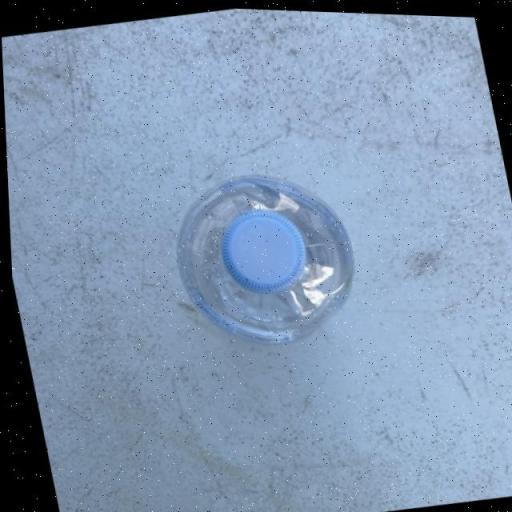plastic: (157, 155, 367, 358)
